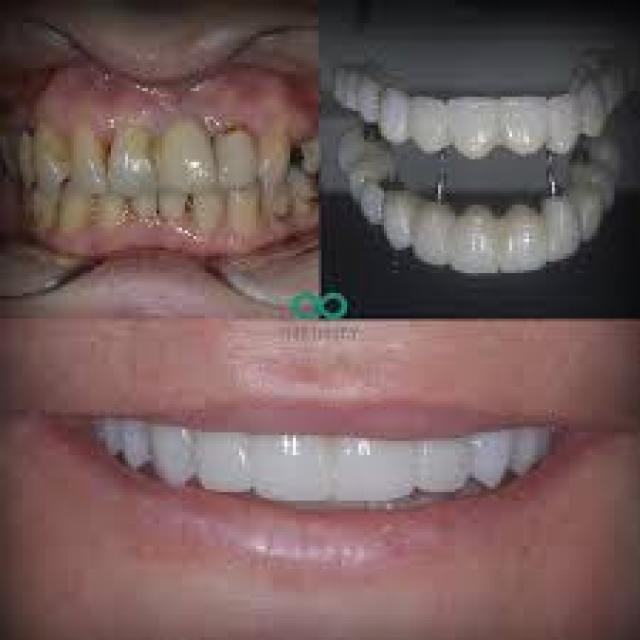tooth: (247, 424, 333, 506), (333, 421, 415, 503), (102, 102, 160, 194), (159, 108, 219, 191), (450, 185, 500, 284), (498, 190, 546, 284), (415, 429, 475, 498), (199, 421, 250, 501), (447, 82, 498, 160), (412, 179, 450, 279), (213, 111, 262, 188), (68, 97, 105, 196), (406, 77, 446, 165), (148, 418, 196, 489), (26, 114, 71, 188), (501, 86, 546, 160), (546, 185, 580, 273), (466, 424, 512, 489), (546, 85, 583, 162), (387, 165, 415, 262), (259, 116, 296, 188), (381, 63, 407, 159), (119, 407, 151, 475), (512, 424, 549, 481), (228, 182, 264, 236), (26, 179, 60, 233), (193, 179, 225, 236), (60, 182, 94, 230), (97, 185, 128, 236), (134, 188, 162, 230), (159, 185, 188, 222)
